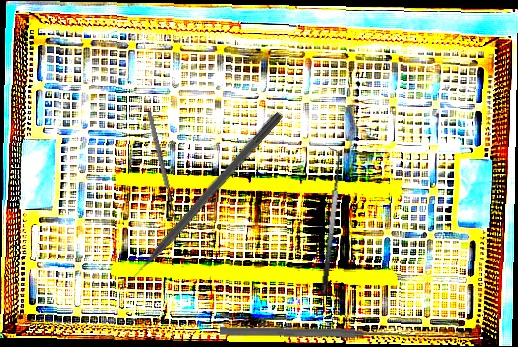Hook Surgical: (145, 110, 184, 223)
Pusher: (117, 108, 285, 293), (219, 325, 407, 341)
Spatula Surgical: (307, 147, 349, 297)
